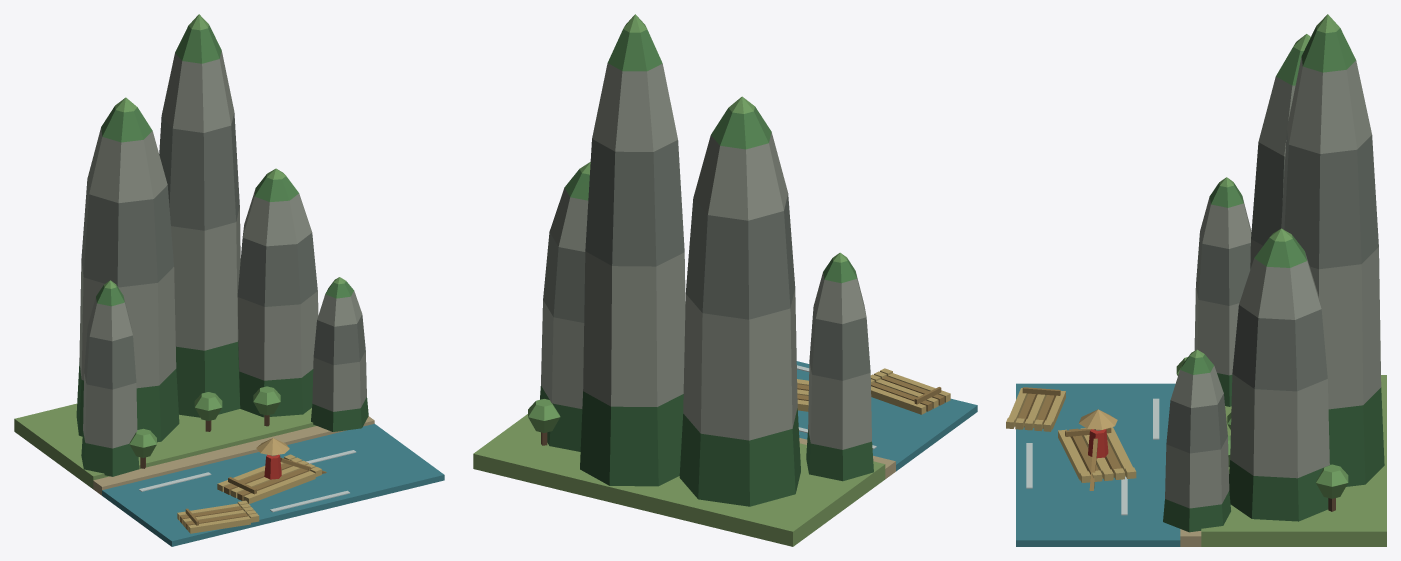
File: karstGuilin.glb
3 renders of one model, left to right at view 1: azimuth 30°, elevation 25°; view 2: azimuth 150°, elevation 25°; view 3: azimuth 270°, elevation 25°, orthographic. The views are drawn at different scales.
Parts seen in each view (by area): view 1: karstGuilin; view 2: karstGuilin; view 3: karstGuilin.
Part boxes in pixels (x1=…): karstGuilin: x1=14, y1=14, x2=444, y2=546; karstGuilin: x1=473, y1=14, x2=977, y2=546; karstGuilin: x1=1006, y1=14, x2=1386, y2=546.
Size of the model in its own units: 1.76 by 2.45 by 1.81.
